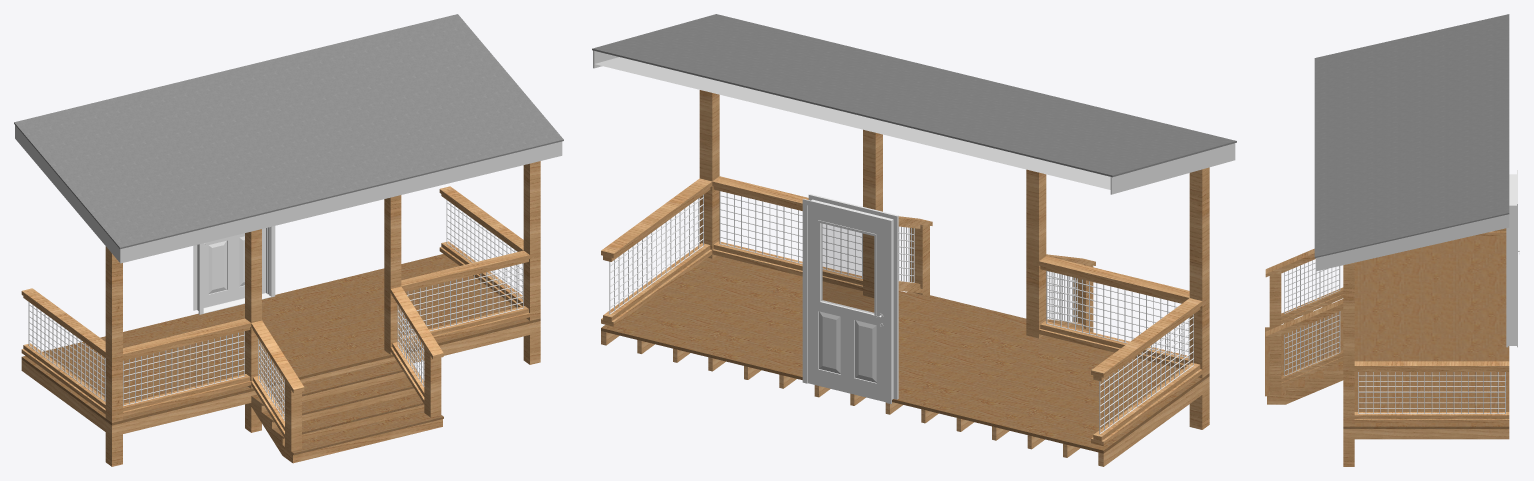
The model's file is ext-door-porch-20.glb.
The picture shows the model from 3 angles, left to right: view 1: azimuth 30°, elevation 25°; view 2: azimuth 150°, elevation 25°; view 3: azimuth 270°, elevation 25°; orthographic projection. The views are drawn at different scales.
Visible parts, largest first — view 1: Stair_rooftop, Object_2, Object_3, Stair_metal, Stair_roofsiding, Object_1, door-white; view 2: Object_3, Stair_rooftop, Object_2, door-white, Stair_metal, Stair_roofsiding, door-glass, Object_1; view 3: Stair_rooftop, Object_3, Object_2, Stair_metal, Object_1, Stair_roofsiding, door-white.
Part boxes in pixels (left/top/right/bottom): Stair_rooftop: left=14, top=14, right=563, bottom=249; Object_2: left=21, top=161, right=540, bottom=466; Object_3: left=21, top=254, right=540, bottom=425; Stair_metal: left=28, top=200, right=523, bottom=420; Stair_roofsiding: left=15, top=125, right=562, bottom=263; Object_1: left=252, top=360, right=443, bottom=455; door-white: left=193, top=226, right=275, bottom=314; Object_3: left=601, top=255, right=1209, bottom=453; Stair_rooftop: left=592, top=14, right=1236, bottom=177; Object_2: left=601, top=90, right=1209, bottom=466; door-white: left=802, top=194, right=898, bottom=403; Stair_metal: left=609, top=191, right=1193, bottom=434; Stair_roofsiding: left=593, top=50, right=1235, bottom=194; door-glass: left=822, top=224, right=873, bottom=313; Object_1: left=898, top=291, right=1026, bottom=327; Stair_rooftop: left=1314, top=14, right=1509, bottom=257; Object_3: left=1343, top=236, right=1509, bottom=428; Object_2: left=1265, top=228, right=1509, bottom=466; Stair_metal: left=1284, top=260, right=1505, bottom=413; Object_1: left=1265, top=303, right=1343, bottom=394; Stair_roofsiding: left=1315, top=214, right=1509, bottom=271; door-white: left=1506, top=170, right=1517, bottom=347.
Size of the model in its own units: 6.26 by 3.78 by 3.39.
Materials: 8 (3 with a texture image).
